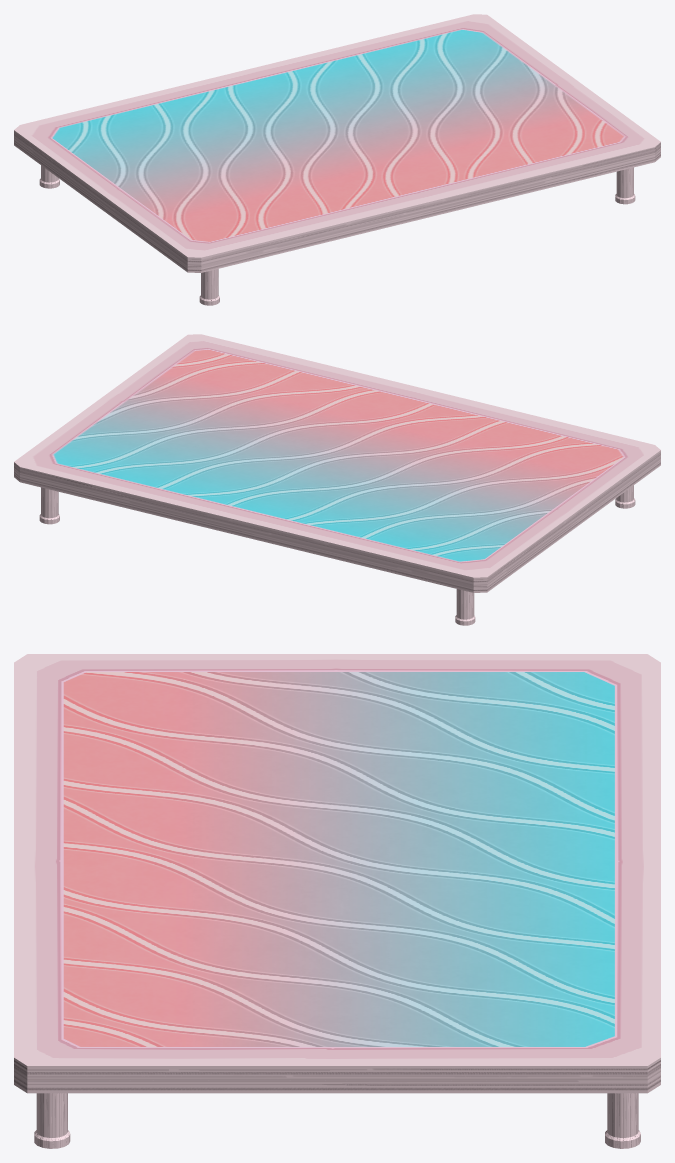
The model's file is Table.fbx.
The picture shows the model from 3 angles, top to bottom: view 1: azimuth 30°, elevation 25°; view 2: azimuth 150°, elevation 25°; view 3: azimuth 270°, elevation 25°; orthographic projection. The views are drawn at different scales.
Visible parts, largest first — view 1: Table; view 2: Table; view 3: Table.
Boxes of the visible parts, x1,y1,x2,y2 form: Table: (14,14,660,305); Table: (14,334,660,625); Table: (14,654,660,1148).
Size of the model in its own units: 342 by 38.8 by 227.
